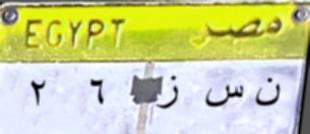2: (16, 72, 60, 110)
6: (80, 75, 111, 113)
noon: (252, 75, 285, 111)
seen: (200, 79, 248, 112)
zay: (156, 71, 185, 113)
